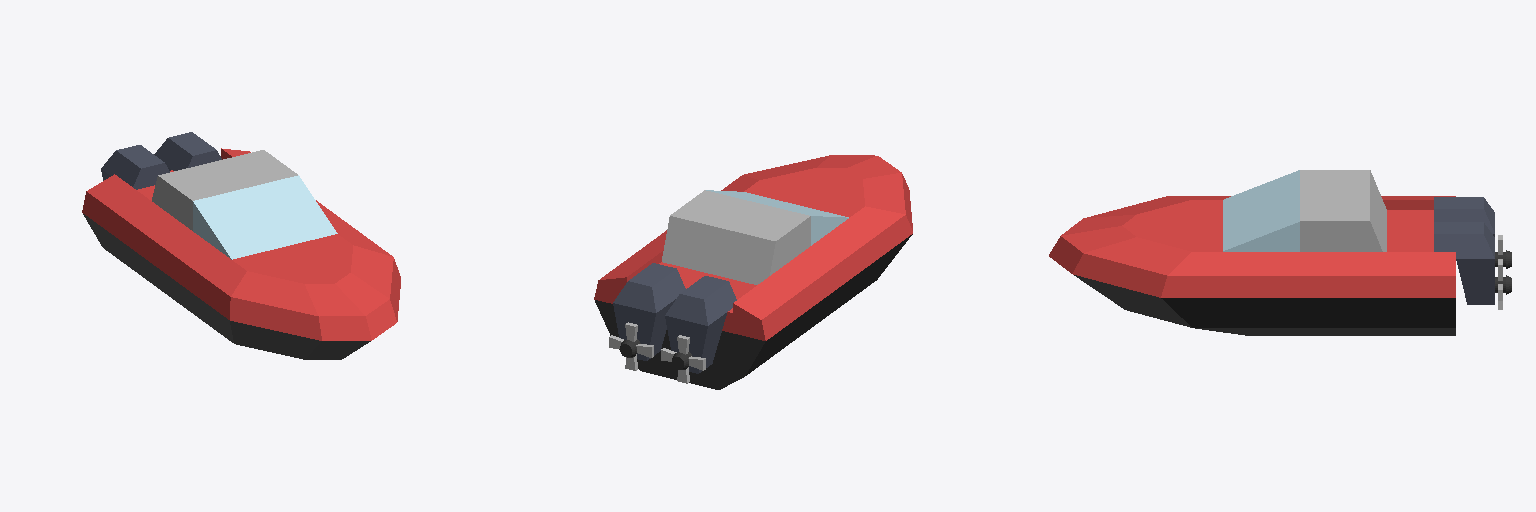
Rendered from watercraftPack_021.obj.
3 views of the same model, side by side, from view 1: azimuth 30°, elevation 25°; view 2: azimuth 150°, elevation 25°; view 3: azimuth 270°, elevation 25° (orthographic).
Visible parts, largest first — view 1: Mesh1 Group2 Group1 Model, Mesh2 Group3 Group1 Model, Mesh4 Group5 Group1 Model; view 2: Mesh1 Group2 Group1 Model, Mesh2 Group3 Group1 Model, Mesh4 Group5 Group1 Model, Mesh3 Group4 Group1 Model, Mesh5 Group6 Group1 Model; view 3: Mesh1 Group2 Group1 Model, Mesh4 Group5 Group1 Model, Mesh2 Group3 Group1 Model.
Part boxes in pixels (x1,y1,x2,y2): Mesh1 Group2 Group1 Model: (82,148,400,359); Mesh2 Group3 Group1 Model: (101,145,169,189); Mesh4 Group5 Group1 Model: (154,132,221,170); Mesh1 Group2 Group1 Model: (594,155,912,389); Mesh2 Group3 Group1 Model: (665,276,736,373); Mesh4 Group5 Group1 Model: (613,263,685,360); Mesh3 Group4 Group1 Model: (609,322,653,370); Mesh5 Group6 Group1 Model: (661,335,705,383); Mesh1 Group2 Group1 Model: (1049,170,1455,335); Mesh4 Group5 Group1 Model: (1434,222,1511,304); Mesh2 Group3 Group1 Model: (1434,197,1511,268).
Size of the model in its own units: 1.78 by 1.2 by 4.17.